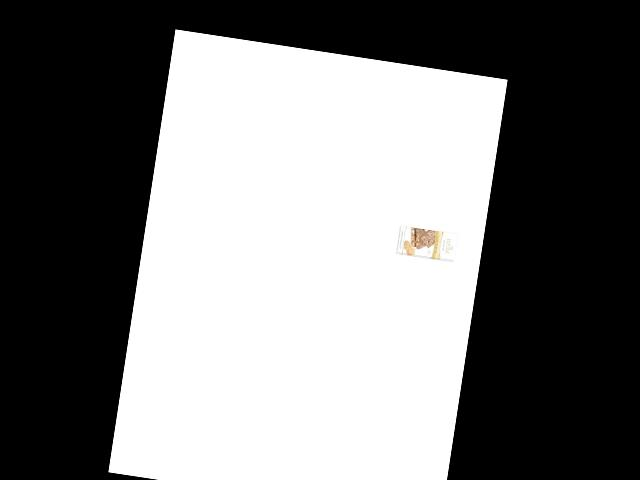chocolate: (393, 224, 460, 264)
